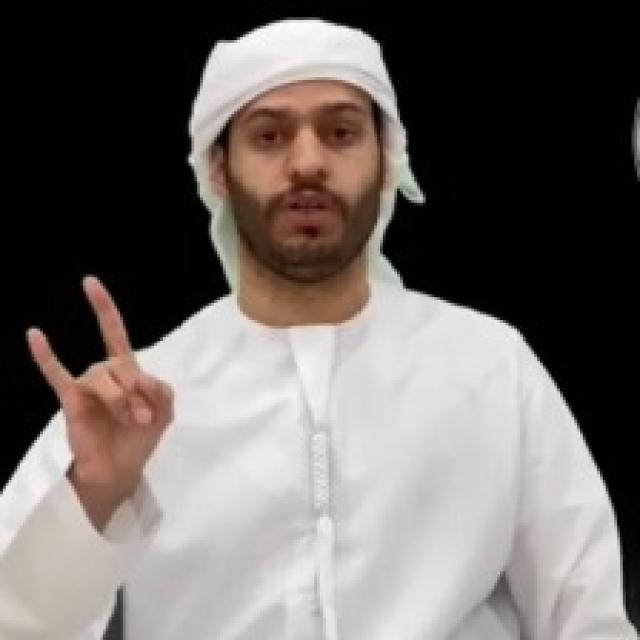No: (25, 269, 180, 488)
